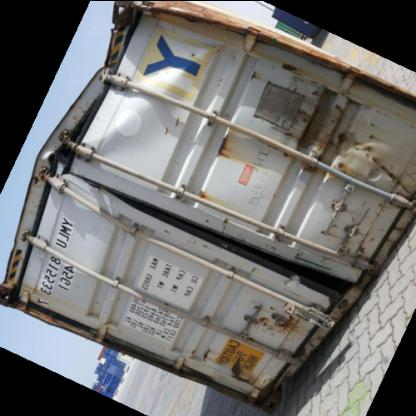Damage: (50, 3, 214, 140), (191, 227, 383, 297), (322, 130, 416, 186), (240, 58, 301, 90), (239, 309, 299, 339), (224, 348, 254, 390), (190, 337, 218, 365), (212, 134, 236, 164)
